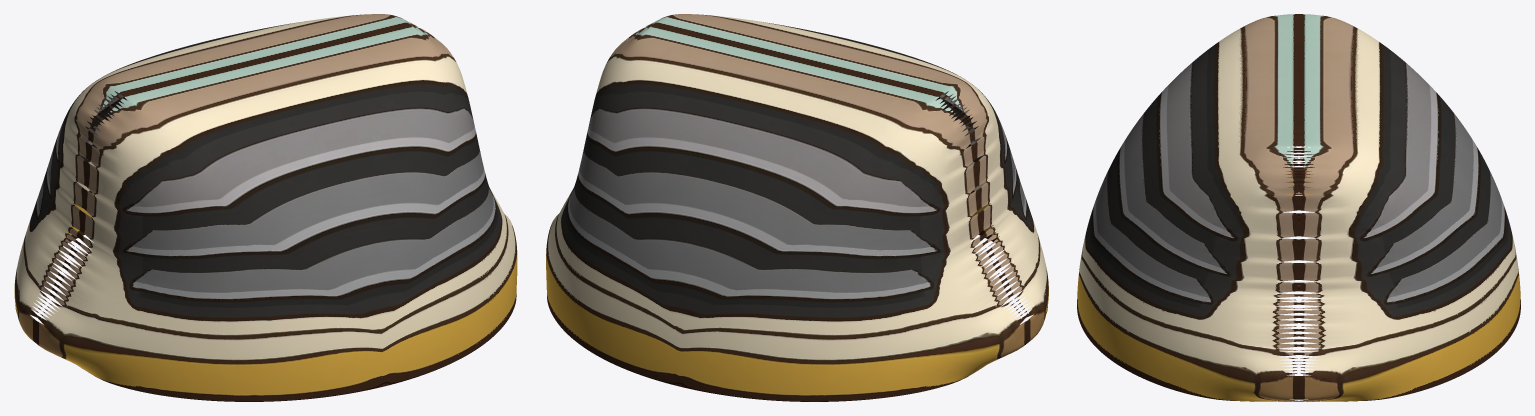
Rendered from wall_vent.glb.
The picture shows the model from 3 angles, left to right: view 1: azimuth 30°, elevation 25°; view 2: azimuth 150°, elevation 25°; view 3: azimuth 270°, elevation 25°; orthographic projection. The views are drawn at different scales.
Parts seen in each view (by area): view 1: wall_vent; view 2: wall_vent; view 3: wall_vent.
Boxes of the visible parts, box(x1,y1,x2,y2) form: wall_vent: box(14, 14, 517, 401); wall_vent: box(546, 14, 1048, 401); wall_vent: box(1077, 14, 1520, 401).
Bounding box in the file's own units: 0.989 × 0.4944 × 0.8787.
1 material, 1 textured.
